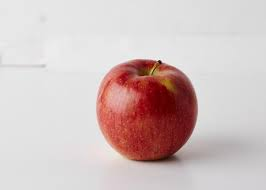apple: (91, 56, 199, 162)
